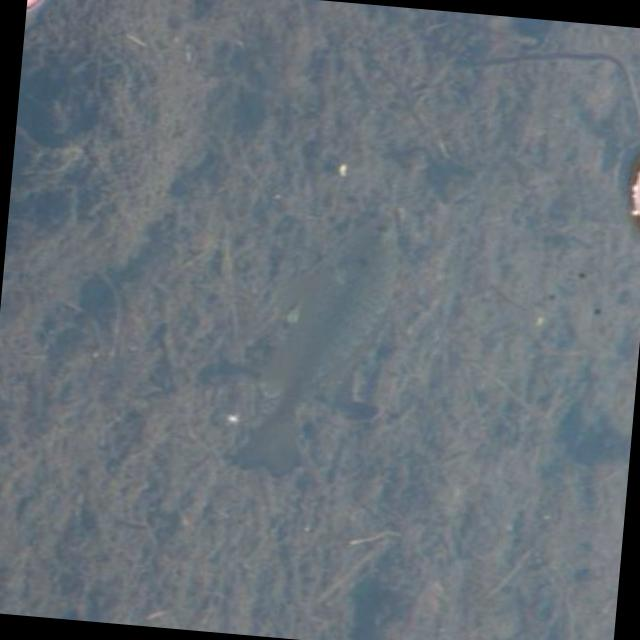Gunes Levregi: (230, 188, 407, 488)
